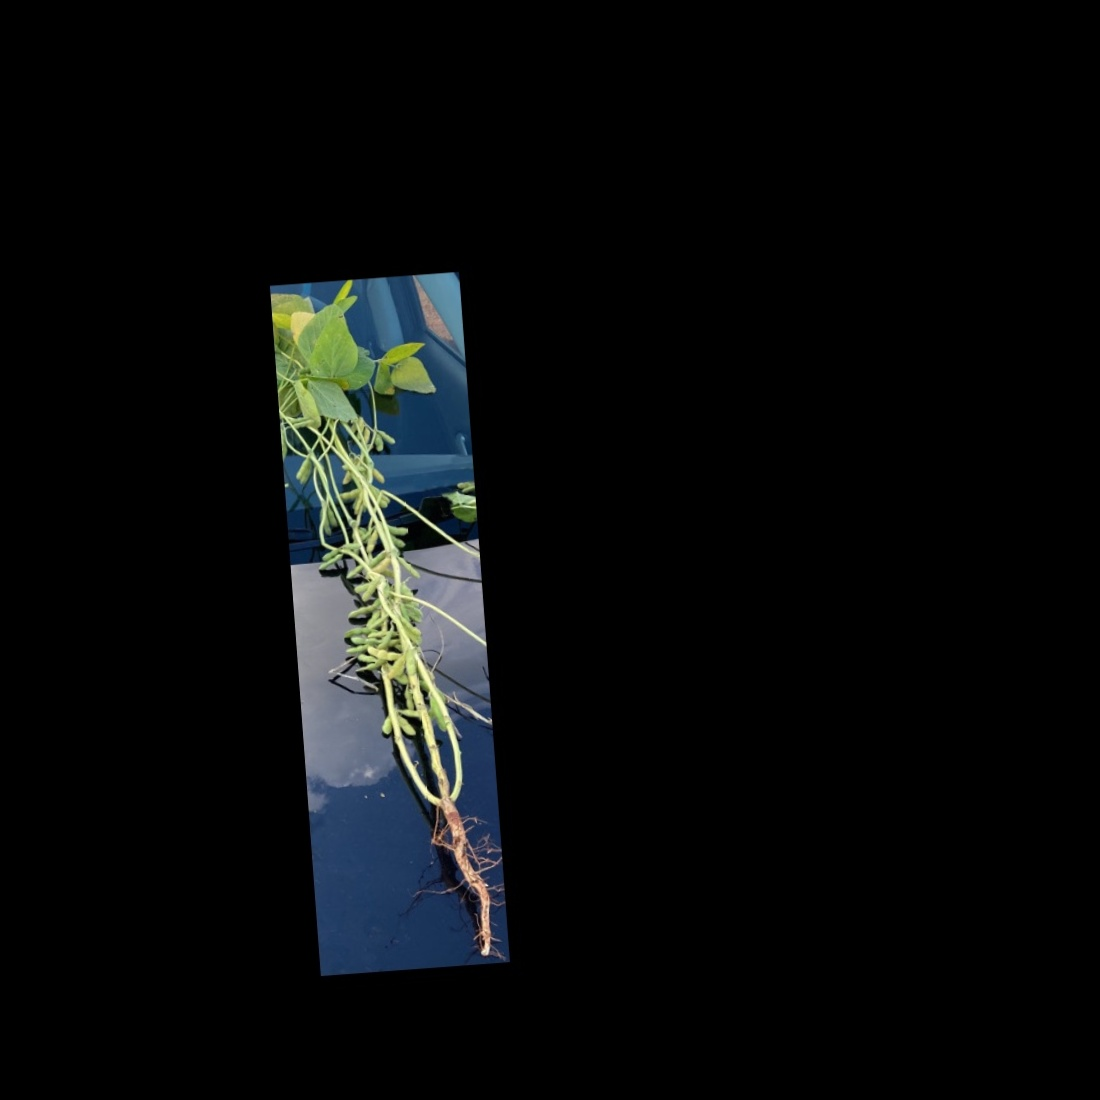pod: (366, 641, 404, 663), (392, 712, 419, 740), (398, 553, 424, 581), (362, 524, 383, 556), (356, 577, 380, 604), (292, 452, 313, 483), (345, 603, 382, 621), (373, 423, 396, 447), (371, 428, 388, 454), (334, 487, 361, 501)
soy: (274, 278, 507, 959)
